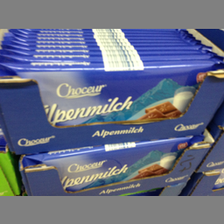chocolate: (1, 63, 223, 126), (19, 135, 203, 193)
